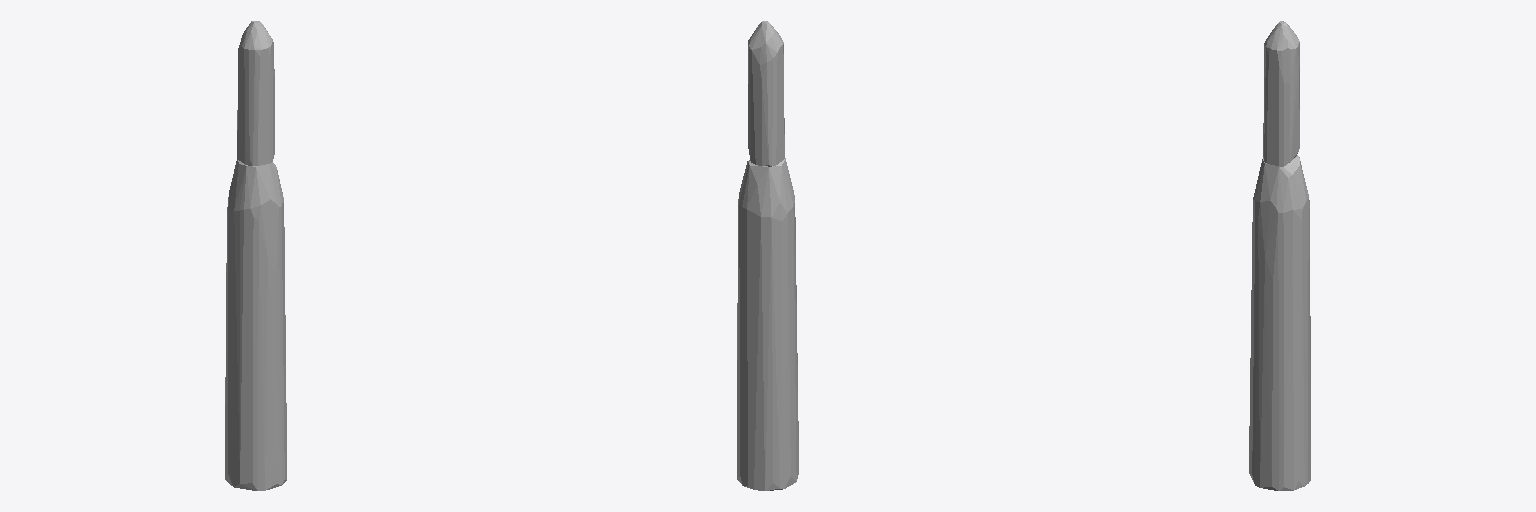
The robot description file, URDF, robot "root":
<robot name="root">
  <link name="link_thingiverse~drill_bit_4118171_convex_piece_0">
    <inertial>
      <origin rpy="0 0 0" xyz="0 0 0"/>
      <mass value="1.10E-01"/>
      <inertia ixx="1.51E-04" ixy="-2.21E-08" ixz="2.06E-07" iyy="1.51E-04" iyz="4.53E-07" izz="6.13E-06"/>
    </inertial>
    <visual>
      <origin rpy="0 0 0" xyz="0 0 0"/>
      <geometry>
        <mesh filename="thingiverse~drill_bit_4118171_convex_piece_0.obj" scale="1.0000E+00 1.0000E+00 1.0000E+00"/>
      </geometry>
      <material name="">
        <color rgba="7.50E-01 7.50E-01 7.50E-01 1"/>
      </material>
    </visual>
    <collision>
      <origin rpy="0 0 0" xyz="0 0 0"/>
      <geometry>
        <mesh filename="thingiverse~drill_bit_4118171_convex_piece_0.obj" scale="1.0000E+00 1.0000E+00 1.0000E+00"/>
      </geometry>
    </collision>
  </link>
  <link name="link_thingiverse~drill_bit_4118171_convex_piece_1">
    <inertial>
      <origin rpy="0 0 0" xyz="0 0 0"/>
      <mass value="1.65E-02"/>
      <inertia ixx="1.19E-04" ixy="3.56E-10" ixz="3.19E-07" iyy="1.19E-04" iyz="4.12E-07" izz="3.39E-07"/>
    </inertial>
    <visual>
      <origin rpy="0 0 0" xyz="0 0 0"/>
      <geometry>
        <mesh filename="thingiverse~drill_bit_4118171_convex_piece_1.obj" scale="1.0000E+00 1.0000E+00 1.0000E+00"/>
      </geometry>
      <material name="">
        <color rgba="7.50E-01 7.50E-01 7.50E-01 1"/>
      </material>
    </visual>
    <collision>
      <origin rpy="0 0 0" xyz="0 0 0"/>
      <geometry>
        <mesh filename="thingiverse~drill_bit_4118171_convex_piece_1.obj" scale="1.0000E+00 1.0000E+00 1.0000E+00"/>
      </geometry>
    </collision>
  </link>
  <joint name="link_thingiverse~drill_bit_4118171_convex_piece_1_joint" type="fixed">
    <origin rpy="0 0 0" xyz="0 0 0"/>
    <parent link="link_thingiverse~drill_bit_4118171_convex_piece_0"/>
    <child link="link_thingiverse~drill_bit_4118171_convex_piece_1"/>
  </joint>
</robot>

--- Facts derived from the render (not from the file) ---
Views: 3 orthographic renders of the robot side by side, from view 1: azimuth 30°, elevation 25°; view 2: azimuth 150°, elevation 25°; view 3: azimuth 330°, elevation 25°.
Model root with 2 links and 1 joints (1 fixed), rooted at link_thingiverse~drill_bit_4118171_convex_piece_0, posed every joint at zero.
Visible links, largest first — view 1: link_thingiverse~drill_bit_4118171_convex_piece_0, link_thingiverse~drill_bit_4118171_convex_piece_1; view 2: link_thingiverse~drill_bit_4118171_convex_piece_0, link_thingiverse~drill_bit_4118171_convex_piece_1; view 3: link_thingiverse~drill_bit_4118171_convex_piece_0, link_thingiverse~drill_bit_4118171_convex_piece_1.
Boxes of the visible links, box(x1,y1,x2,y2) form: link_thingiverse~drill_bit_4118171_convex_piece_0: box(225, 159, 286, 490); link_thingiverse~drill_bit_4118171_convex_piece_1: box(237, 21, 274, 165); link_thingiverse~drill_bit_4118171_convex_piece_0: box(737, 158, 798, 490); link_thingiverse~drill_bit_4118171_convex_piece_1: box(748, 21, 784, 166); link_thingiverse~drill_bit_4118171_convex_piece_0: box(1249, 155, 1310, 490); link_thingiverse~drill_bit_4118171_convex_piece_1: box(1263, 21, 1299, 166).
Size in the robot's own frame: 0.0218 by 0.0218 by 0.1821 metres.
Meshes: 2 distinct files referenced, 2 mesh visuals loaded (2 OBJ).
